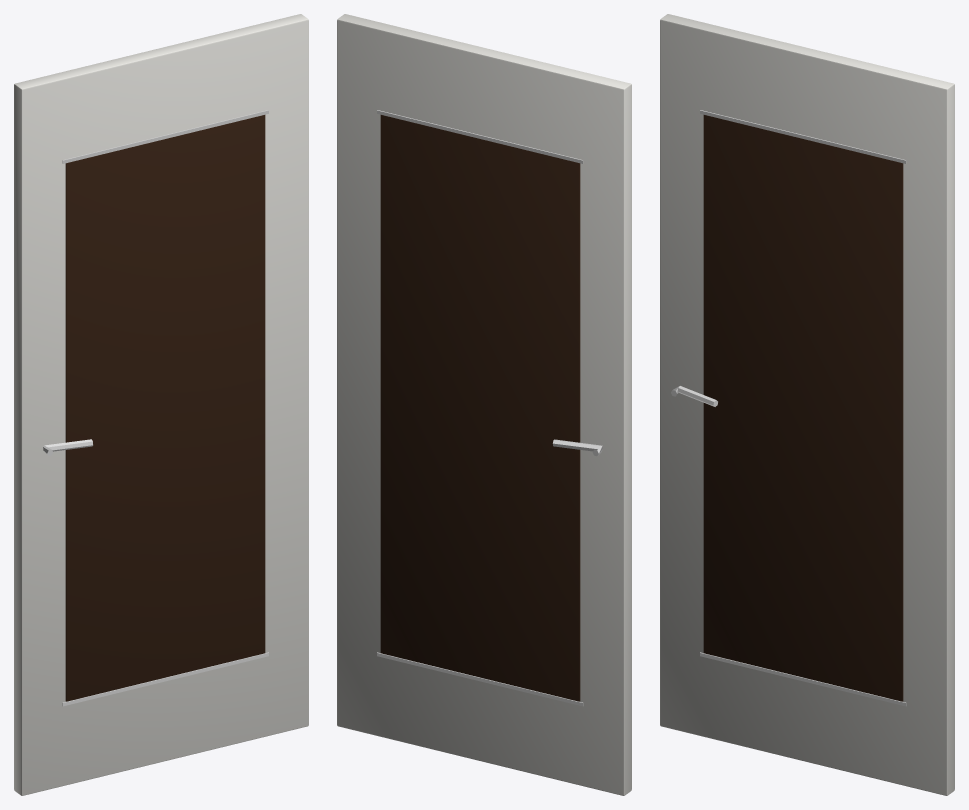
File: marlin_door.glb
The picture shows the model from 3 angles, left to right: view 1: azimuth 30°, elevation 25°; view 2: azimuth 150°, elevation 25°; view 3: azimuth 330°, elevation 25°; orthographic projection.
Visible parts, largest first — view 1: marlin_door; view 2: marlin_door; view 3: marlin_door.
Boxes of the visible parts, x1,y1,x2,y2 form: marlin_door: [14, 14, 308, 795]; marlin_door: [337, 14, 631, 795]; marlin_door: [660, 14, 954, 795].
Size of the model in its own units: 0.894 by 2.1 by 0.1389.
